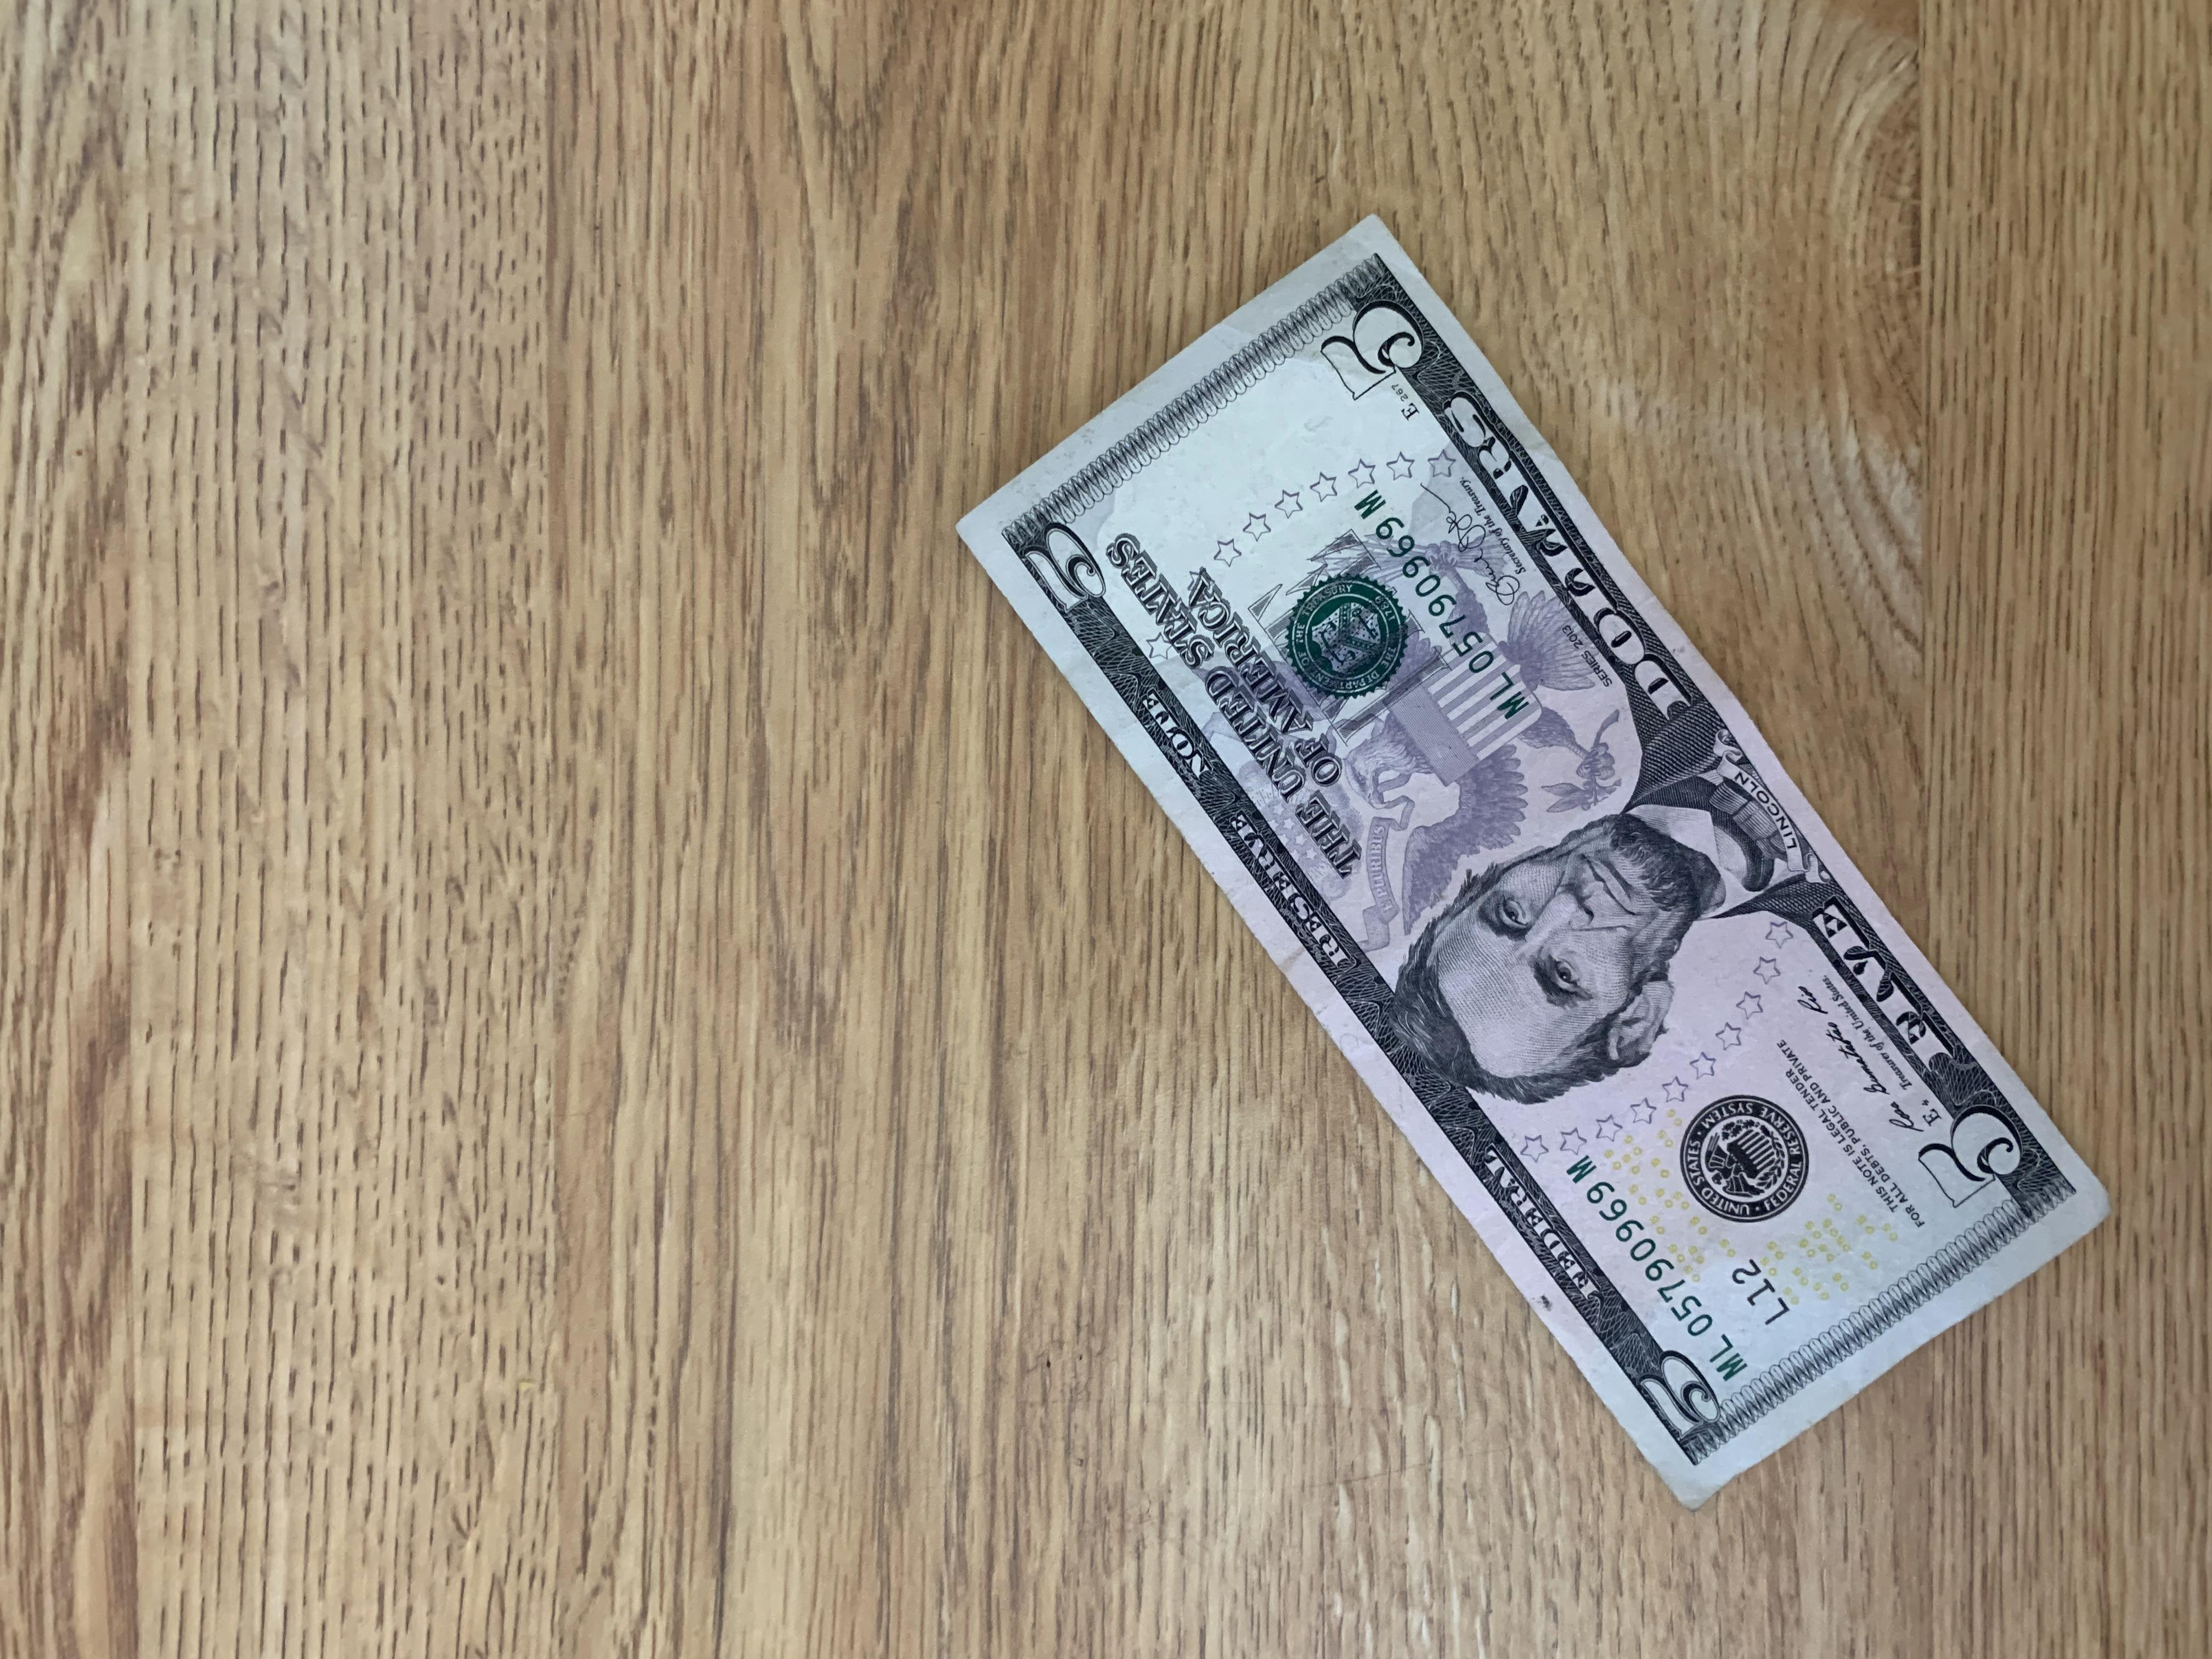FiveBill: (913, 204, 2118, 1514)
